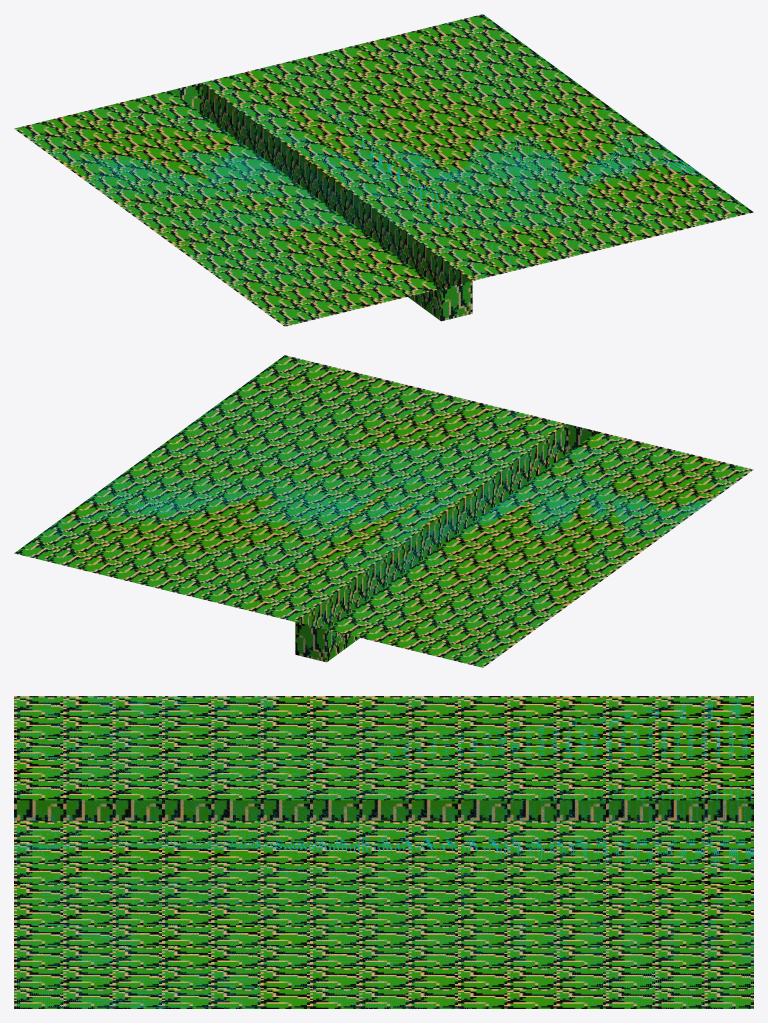
Rendered from Dungeon Floor Water Line.fbx.
3 renders of one model, top to bottom at view 1: azimuth 30°, elevation 25°; view 2: azimuth 150°, elevation 25°; view 3: azimuth 270°, elevation 25°, orthographic. The views are drawn at different scales.
Parts seen in each view (by area): view 1: group_0; view 2: group_0; view 3: group_0.
Part boxes in pixels (bbox=[...]): group_0: bbox=[14, 14, 753, 326]; group_0: bbox=[14, 355, 753, 667]; group_0: bbox=[14, 696, 753, 1008].
Size of the model in its own units: 1500 by 100 by 1500.
